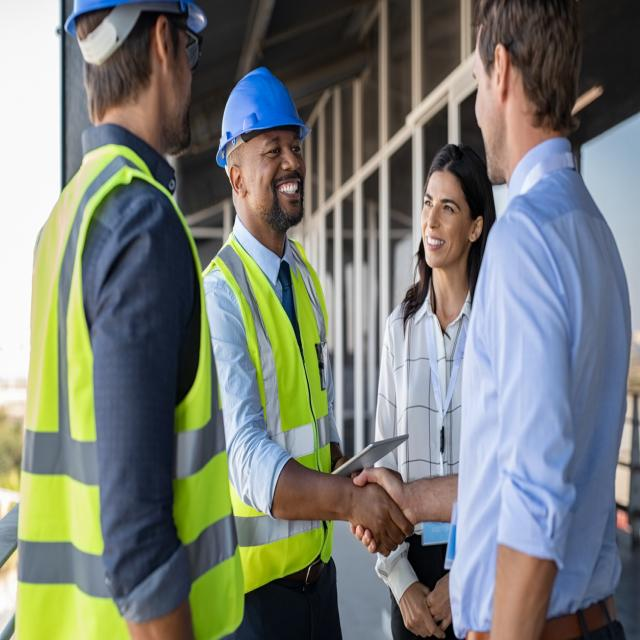secure person: (14, 0, 266, 640), (204, 67, 369, 617)
unsecured person: (449, 169, 631, 640), (386, 145, 496, 482), (473, 0, 584, 184)
